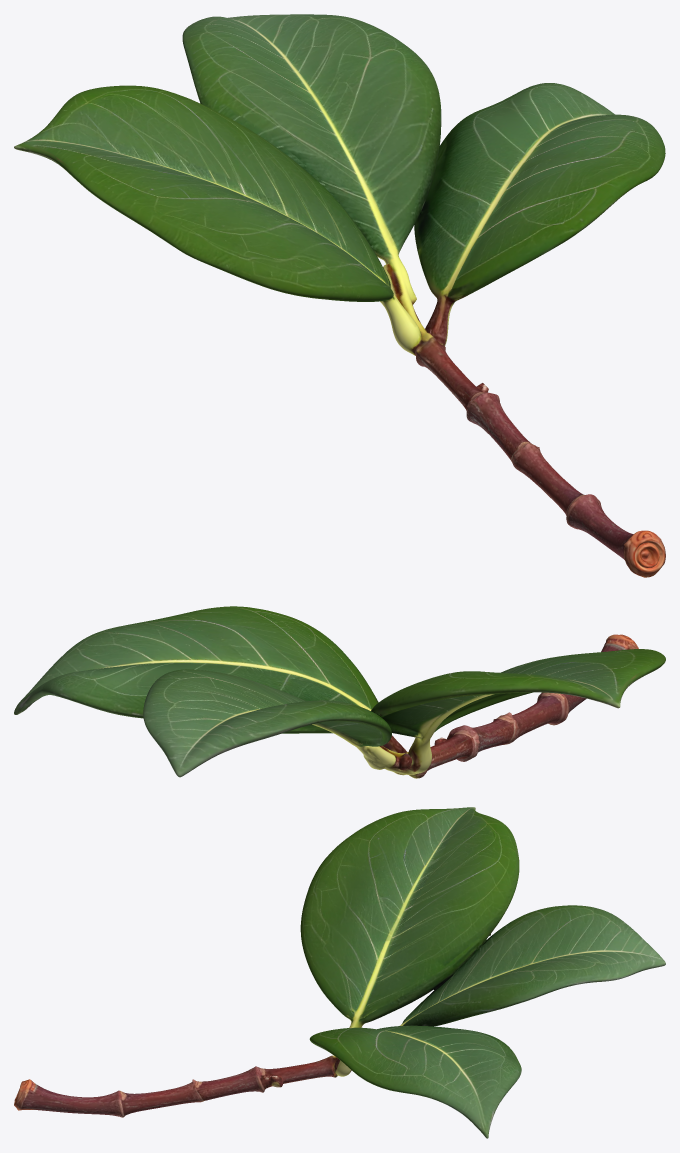
The model's file is rougui.glb.
The picture shows the model from 3 angles, top to bottom: view 1: azimuth 30°, elevation 25°; view 2: azimuth 150°, elevation 25°; view 3: azimuth 270°, elevation 25°; orthographic projection. The views are drawn at different scales.
Visible parts, largest first — view 1: node_0; view 2: node_0; view 3: node_0.
Boxes of the visible parts, x1,y1,x2,y2 form: node_0: [14, 14, 665, 577]; node_0: [14, 606, 665, 778]; node_0: [14, 807, 665, 1138].
Size of the model in its own units: 0.9125 by 0.4091 by 1.14.
1 material, 1 textured.
